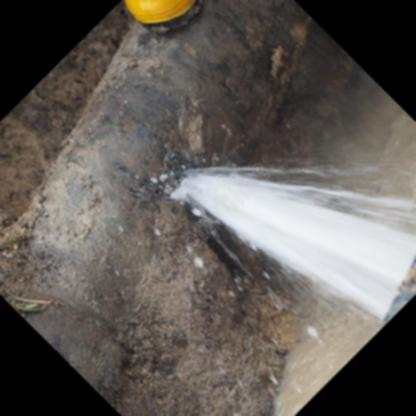burst: (132, 155, 204, 227)
